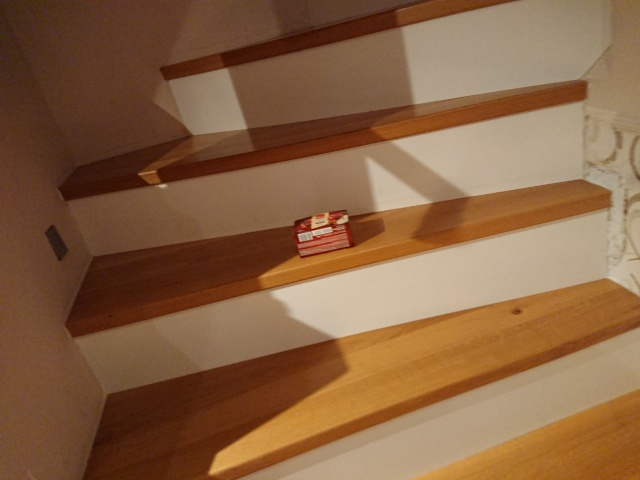Franck Apple Cinnamon Tea 60g: (289, 207, 357, 261)
